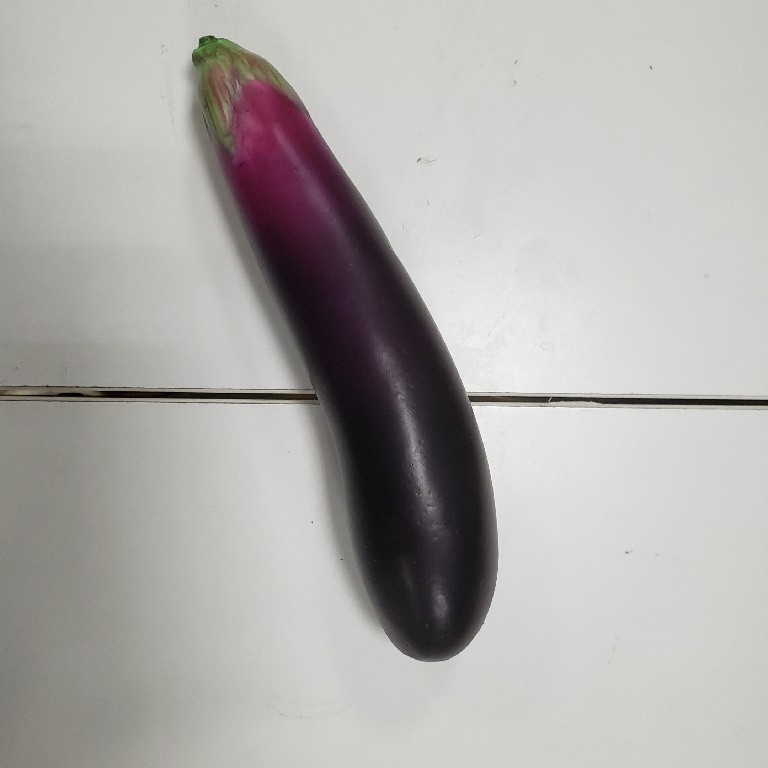fruit_eggplant: (182, 29, 505, 667)
